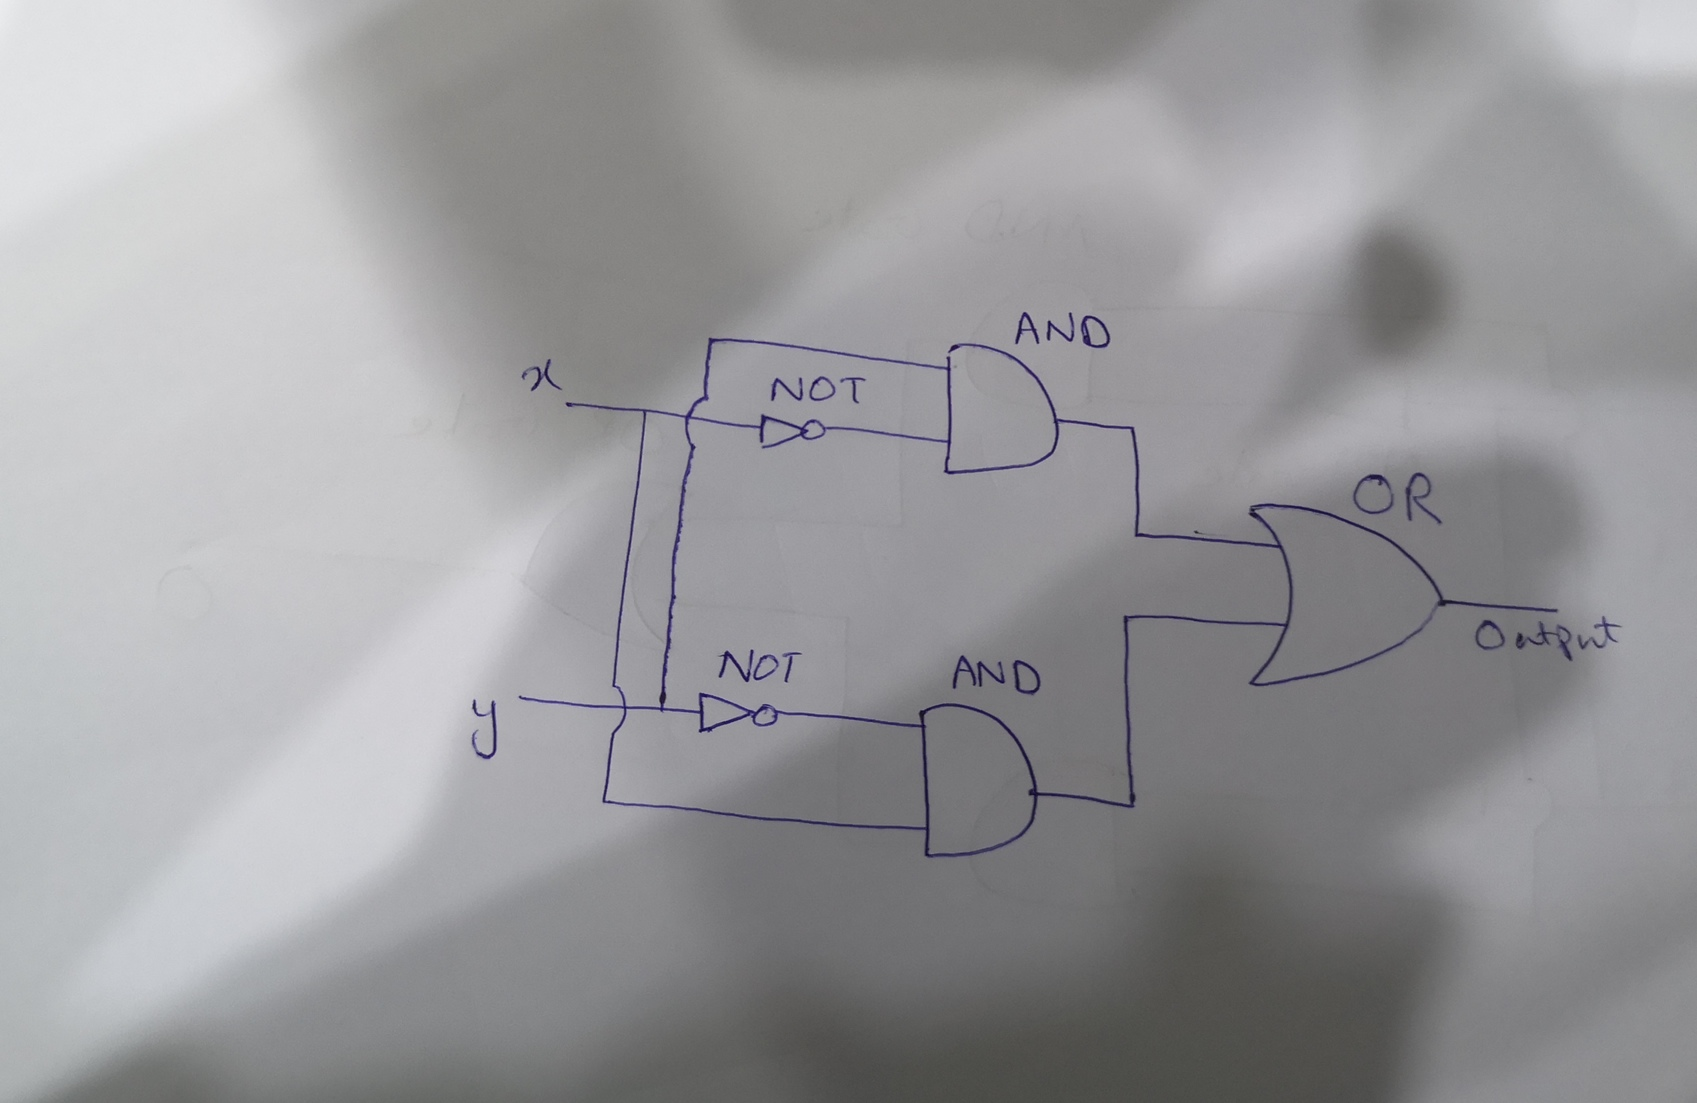and: (912, 699, 1041, 863), (936, 341, 1066, 482)
crossover: (678, 391, 714, 453), (604, 680, 636, 739)
junction: (1123, 521, 1152, 549), (1119, 790, 1143, 817), (701, 328, 722, 349), (1121, 418, 1143, 438), (1114, 607, 1137, 627), (633, 401, 652, 423), (596, 791, 613, 810), (656, 697, 670, 717)
not: (694, 690, 780, 739), (753, 411, 830, 455)
or: (1237, 495, 1455, 695)
terminal: (1547, 602, 1572, 620), (560, 396, 576, 413), (513, 689, 529, 706)
text: (1474, 606, 1620, 663), (1349, 469, 1446, 528), (1012, 307, 1114, 352), (946, 652, 1045, 697), (767, 368, 868, 411), (712, 642, 806, 685), (466, 692, 503, 764), (518, 359, 563, 391)
